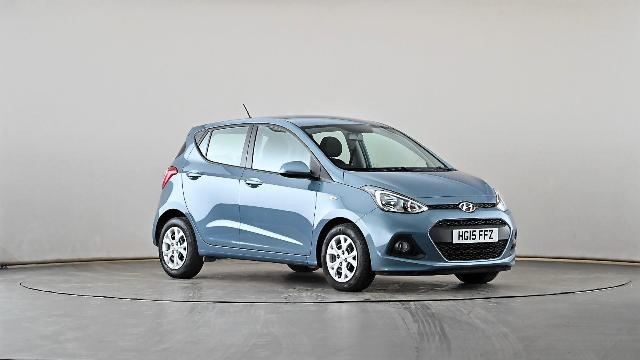hyundai: (150, 104, 518, 292)
